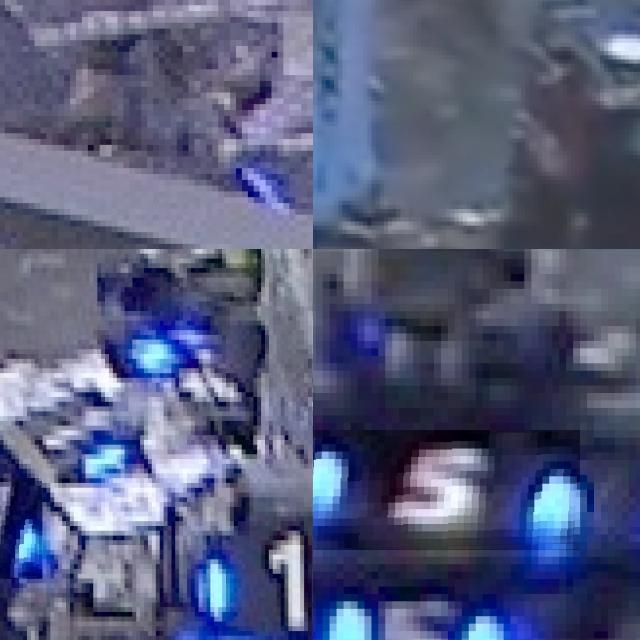B1: (202, 530, 313, 631), (0, 478, 42, 578)
B5: (313, 430, 580, 549), (313, 567, 524, 640)
